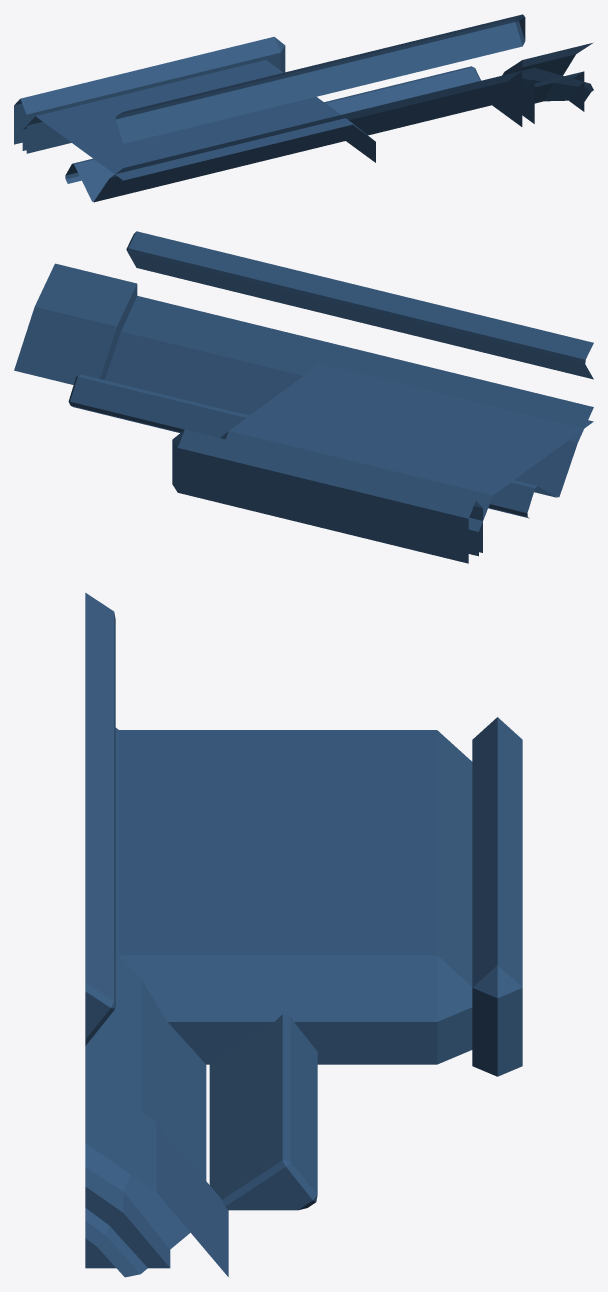
The model's file is cell_47.obj.
The picture shows the model from 3 angles, top to bottom: view 1: azimuth 30°, elevation 25°; view 2: azimuth 150°, elevation 25°; view 3: azimuth 270°, elevation 25°; orthographic projection. The views are drawn at different scales.
Bounding box in the file's own units: 1 × 0.2291 × 0.4025.
